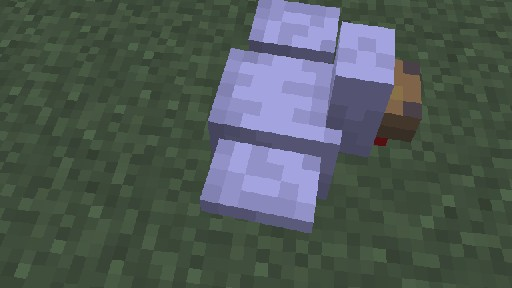chicken: (199, 0, 421, 233)
